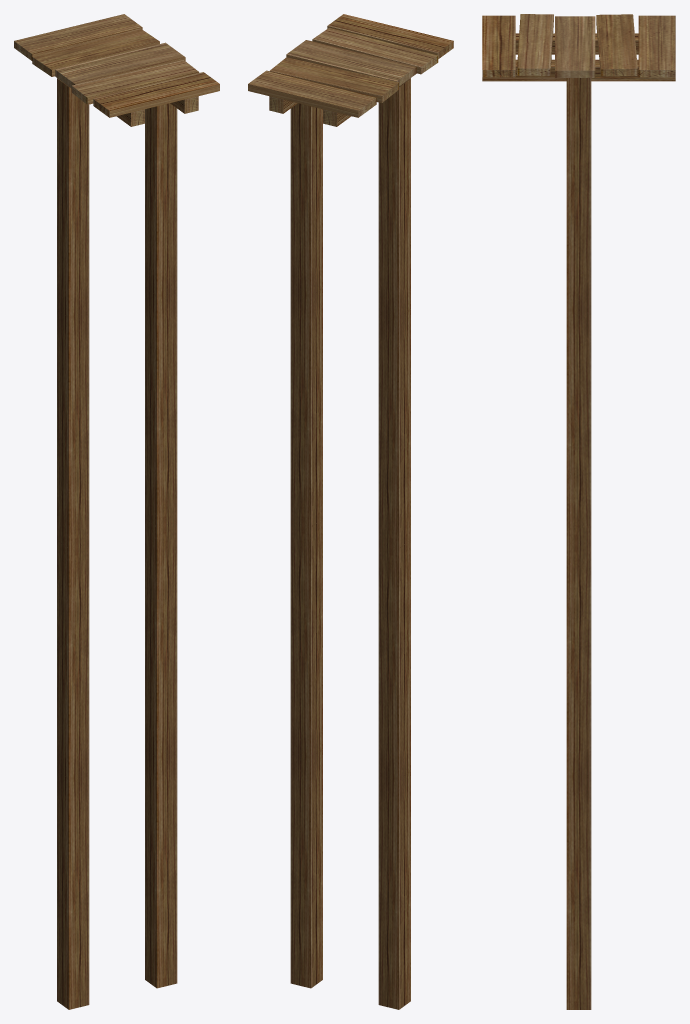
The model's file is BridgeWoodRoad01.FBX.
The picture shows the model from 3 angles, left to right: view 1: azimuth 30°, elevation 25°; view 2: azimuth 150°, elevation 25°; view 3: azimuth 270°, elevation 25°; orthographic projection.
Visible parts, largest first — view 1: BridgeWoodRoad01; view 2: BridgeWoodRoad01; view 3: BridgeWoodRoad01.
Boxes of the visible parts, box(x1,y1,x2,y2) form: BridgeWoodRoad01: box(14, 14, 219, 1009); BridgeWoodRoad01: box(248, 14, 453, 1009); BridgeWoodRoad01: box(482, 14, 675, 1009).
Bounding box in the file's own units: 192 × 1479 × 276.
